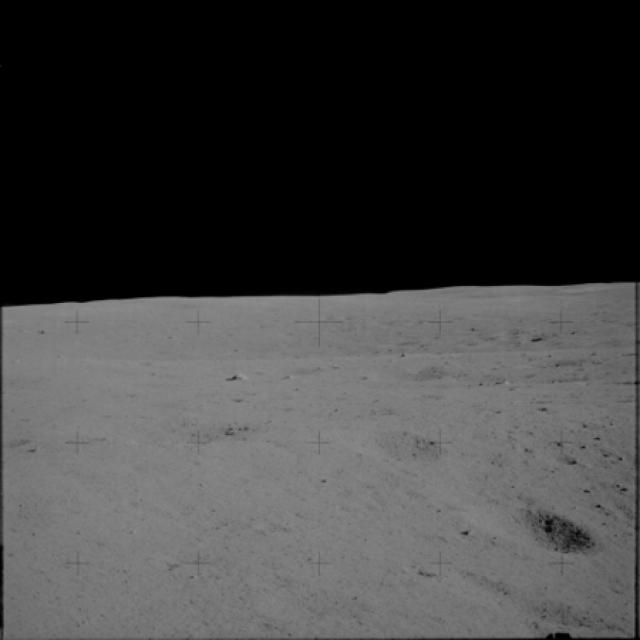crater: (444, 486, 606, 581), (51, 388, 276, 456), (348, 421, 448, 474), (367, 358, 458, 396), (526, 435, 592, 476), (262, 358, 330, 382), (0, 427, 40, 458), (515, 327, 548, 350)
rock: (221, 368, 257, 389)
